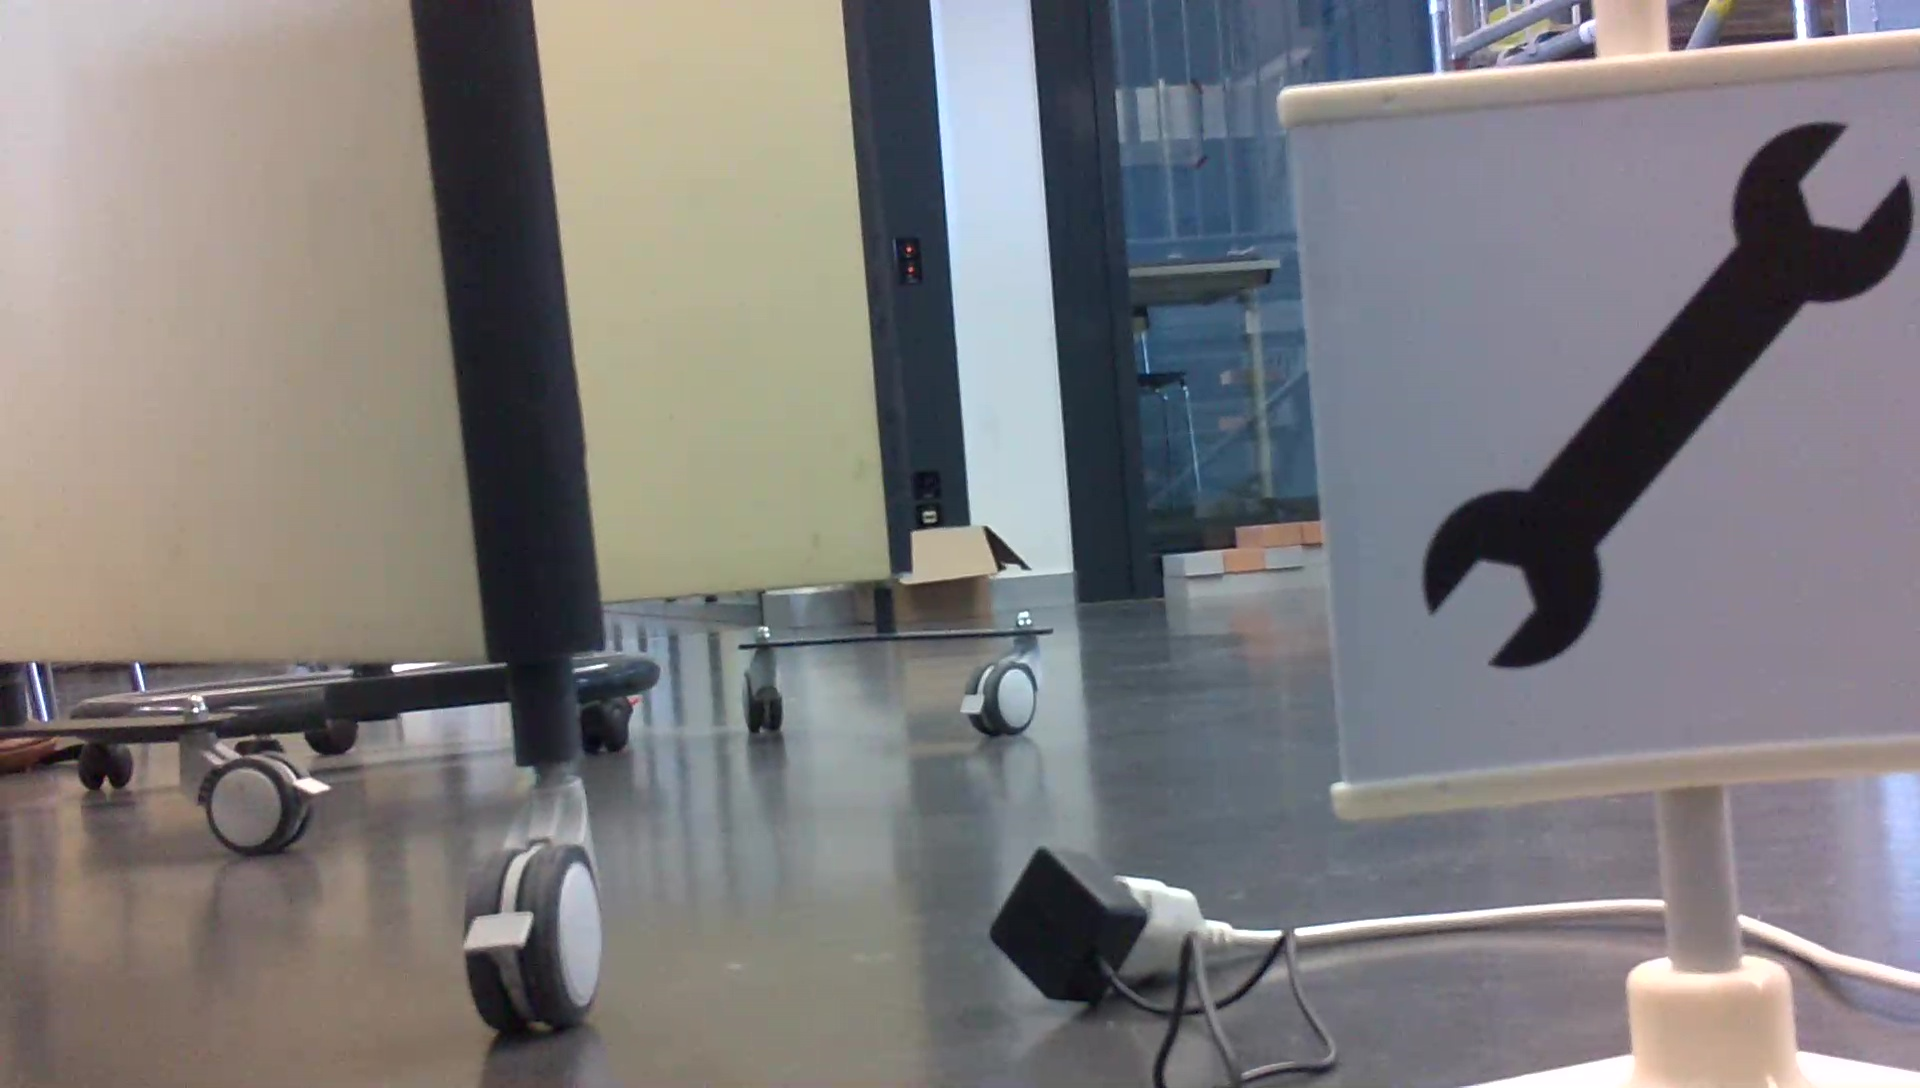wrench: (1412, 112, 1913, 680)
